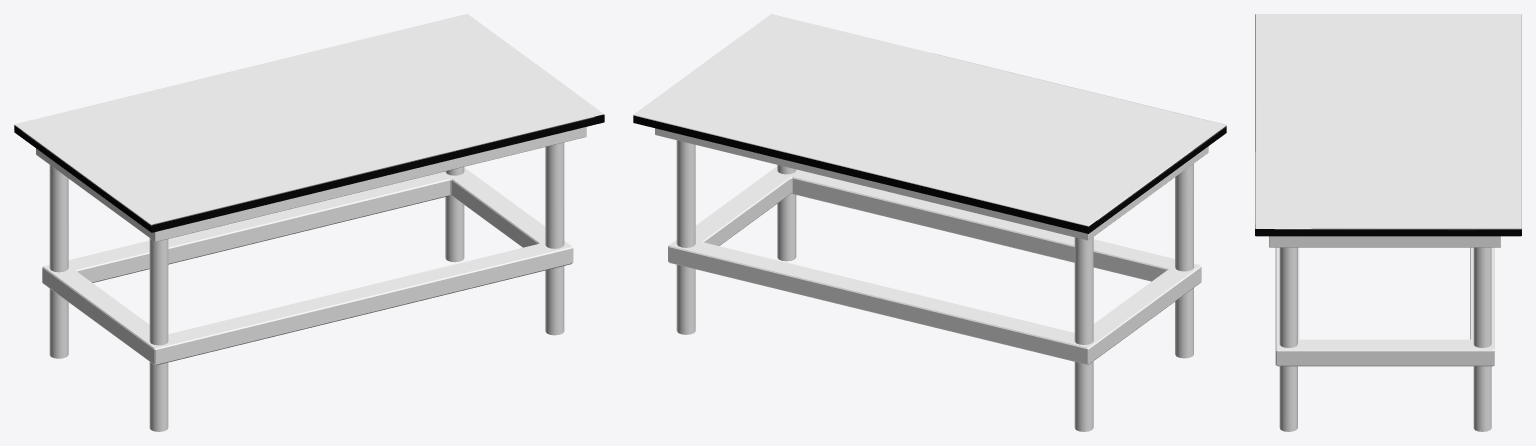
3 views of the same model, side by side, from view 1: azimuth 30°, elevation 25°; view 2: azimuth 150°, elevation 25°; view 3: azimuth 270°, elevation 25° (orthographic). The views are drawn at different scales.
Parts seen in each view (by area): view 1: ZhuoZi; view 2: ZhuoZi; view 3: ZhuoZi.
Boxes of the visible parts, left/top/right/bottom form: ZhuoZi: left=14, top=14, right=604, bottom=431; ZhuoZi: left=633, top=14, right=1226, bottom=431; ZhuoZi: left=1255, top=14, right=1521, bottom=431.
Bounding box in the file's own units: 2222 × 1038 × 1168.
